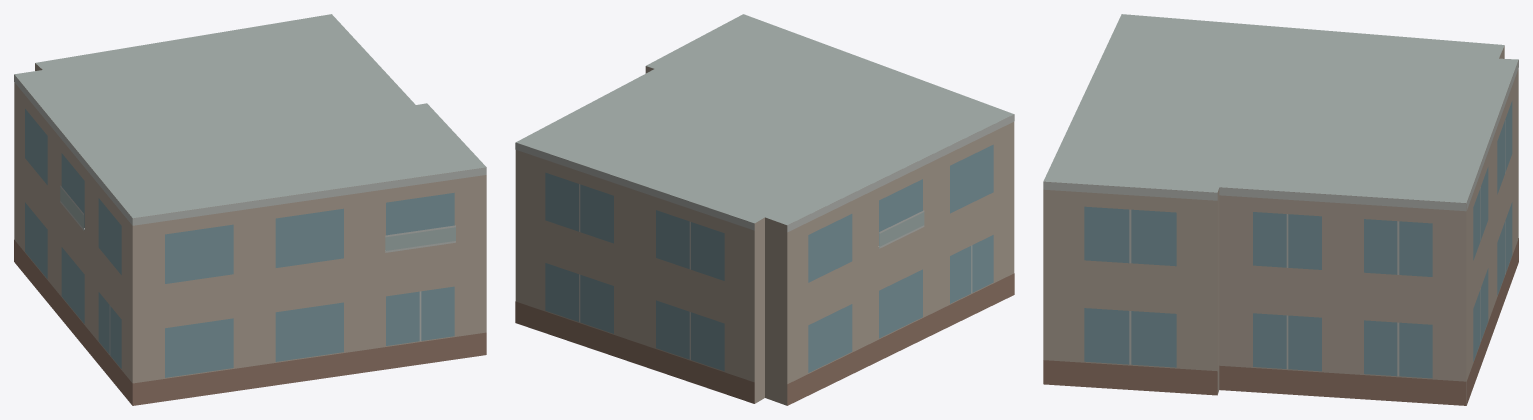
The model's file is survey-upis-32564963.glb.
The picture shows the model from 3 angles, left to right: view 1: azimuth 30°, elevation 25°; view 2: azimuth 150°, elevation 25°; view 3: azimuth 270°, elevation 25°; orthographic projection. The views are drawn at different scales.
Parts seen in each view (by area): view 1: survey-upis-32564963.tmp; view 2: survey-upis-32564963.tmp; view 3: survey-upis-32564963.tmp.
Boxes of the visible parts, bbox=[...] form: survey-upis-32564963.tmp: bbox=[14, 14, 486, 405]; survey-upis-32564963.tmp: bbox=[515, 14, 1014, 405]; survey-upis-32564963.tmp: bbox=[1043, 14, 1518, 405].
Bounding box in the file's own units: 12.22 × 6.1 × 12.98.
